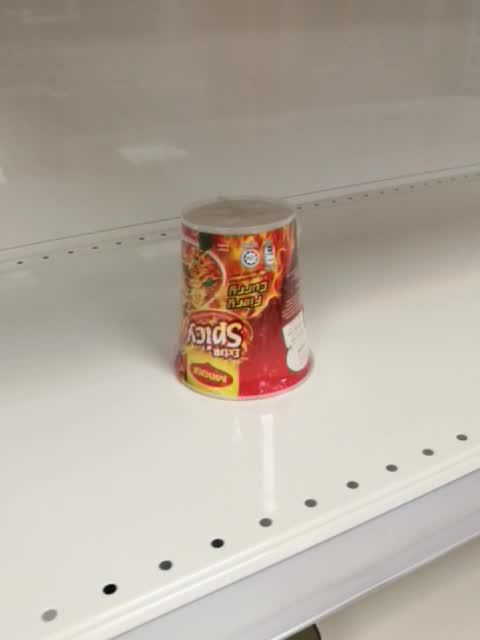maggi: (171, 196, 314, 402)
